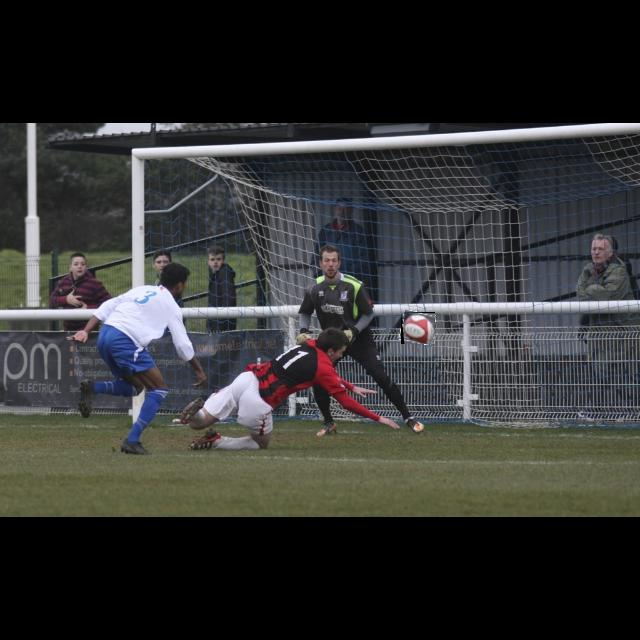Football: (401, 312, 435, 344)
